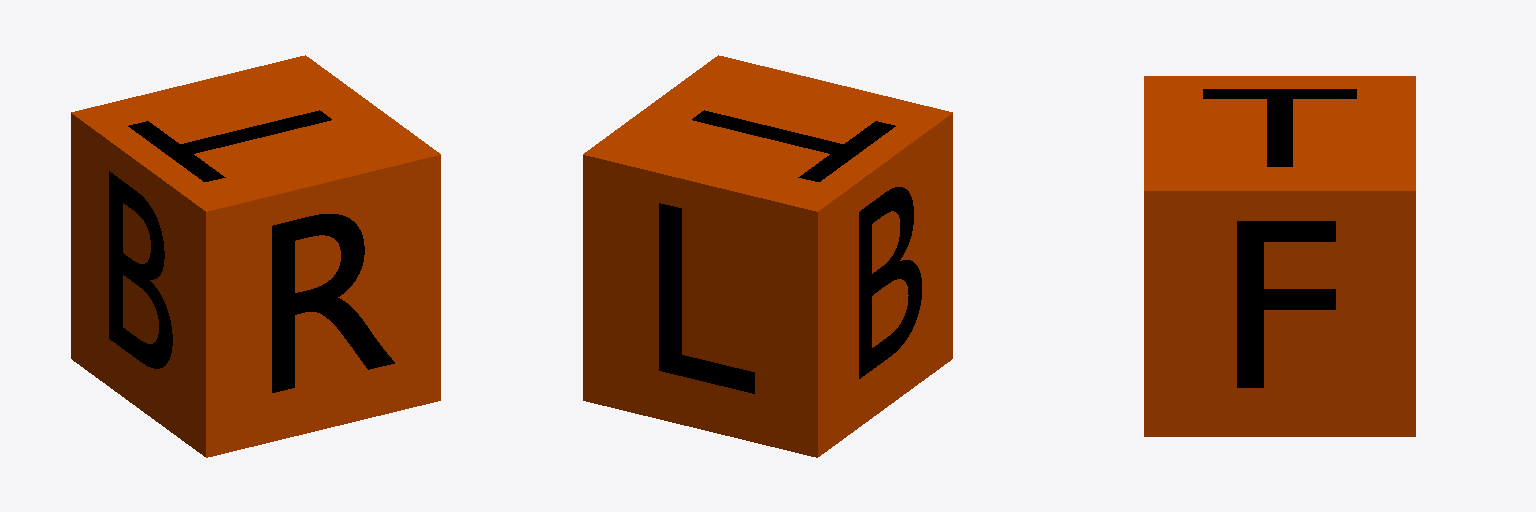
The picture shows the model from 3 angles: view 1: azimuth 30°, elevation 25°; view 2: azimuth 150°, elevation 25°; view 3: azimuth 270°, elevation 25°; orthographic projection.
Visible parts, largest first — view 1: Cube, Right, Back, Top; view 2: Cube, Back, Left, Top; view 3: Cube, Front, Top.
Part boxes in pixels (left/top/right/bottom): Cube: left=71, top=55, right=440, bottom=457; Right: left=272, top=214, right=394, bottom=392; Back: left=109, top=171, right=172, bottom=368; Top: left=128, top=110, right=331, bottom=181; Cube: left=583, top=55, right=952, bottom=457; Back: left=859, top=187, right=921, bottom=378; Left: left=659, top=203, right=754, bottom=393; Top: left=692, top=110, right=895, bottom=181; Cube: left=1144, top=76, right=1415, bottom=436; Front: left=1237, top=221, right=1335, bottom=387; Top: left=1203, top=89, right=1356, bottom=166.
Size of the model in its own units: 2.02 by 2.01 by 2.02.